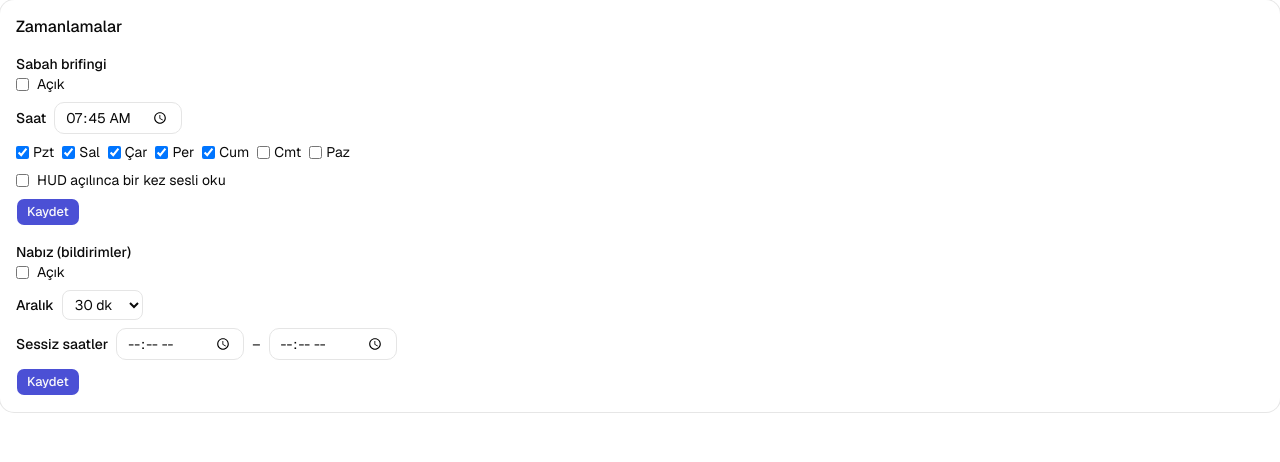
ScheduleEditor › loads the schedules and saves the morning digest
Click the checkbox labelled "Açık" below "Sabah brifingi" at (22, 84), box [16,78,29,90]
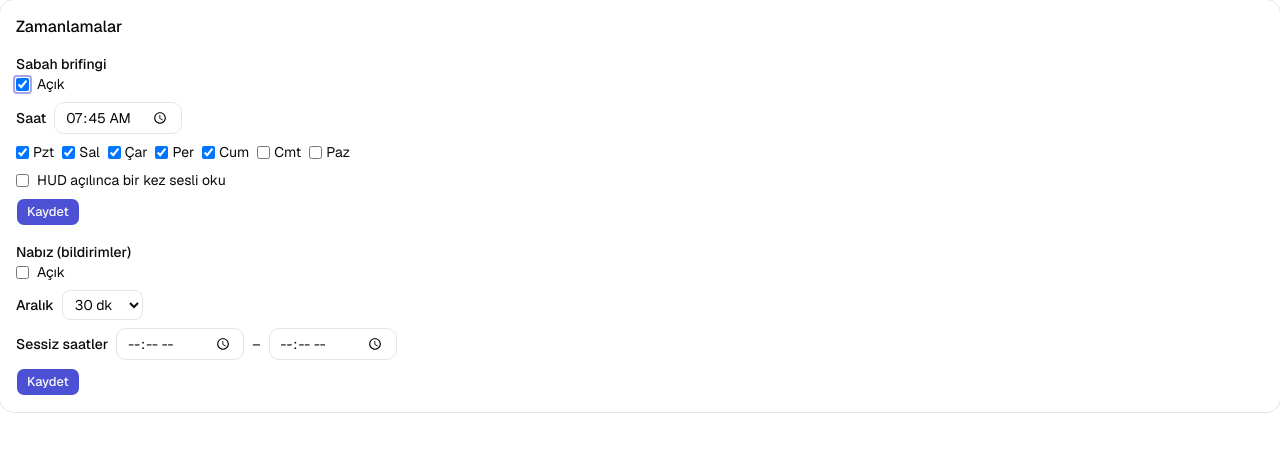
Click the checkbox labelled "HUD açılınca bir kez sesli oku" at (22, 180), box [16,174,29,186]
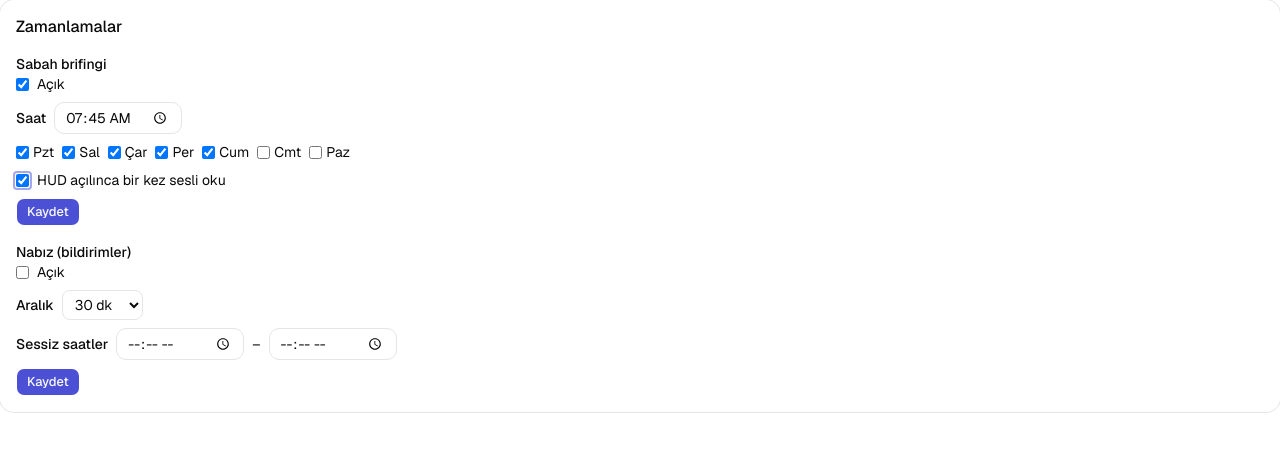
Click the checkbox labelled "Cmt" at (264, 152), box [257,146,270,158]
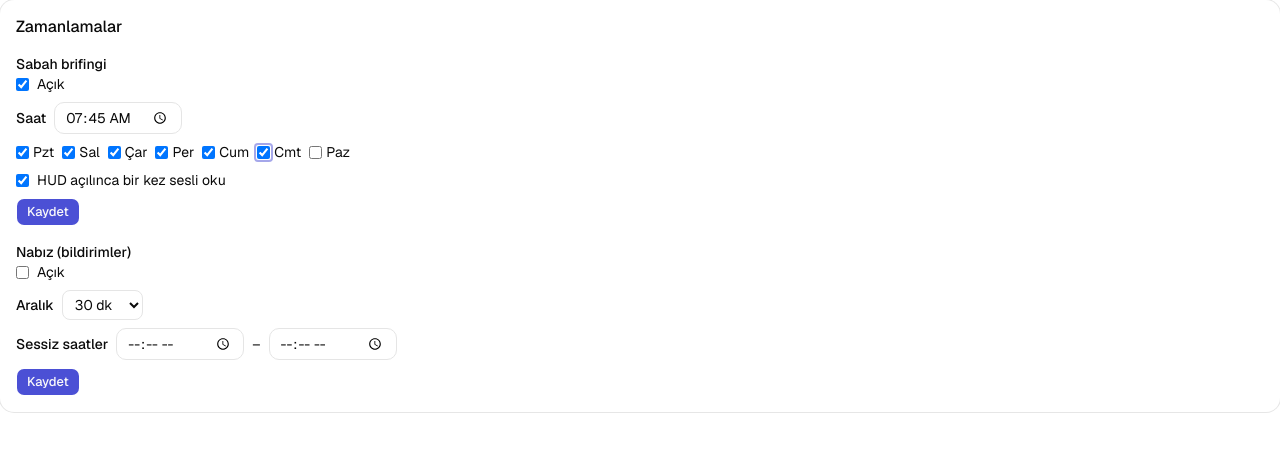
Click the button with test id "save-digest" at (48, 212), box [16,198,80,226]
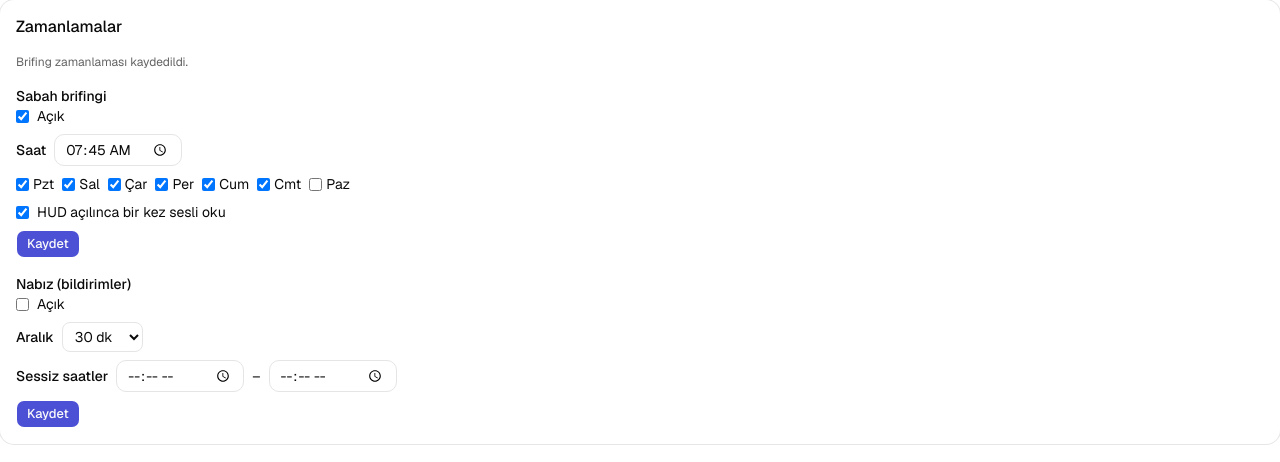
Expected: the text "Brifing zamanlaması kaydedildi." is shown, [16,54,188,70]
Click the button with test id "save-heartbeat" at (48, 414), box [16,400,80,428]
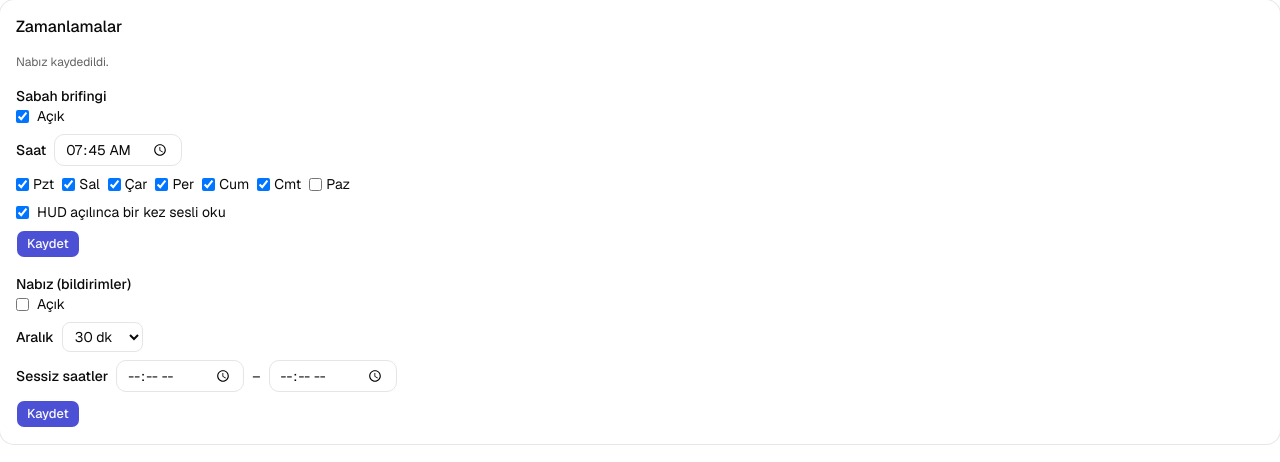
Expected: the text "Nabız kaydedildi." is shown, [16,54,108,70]
